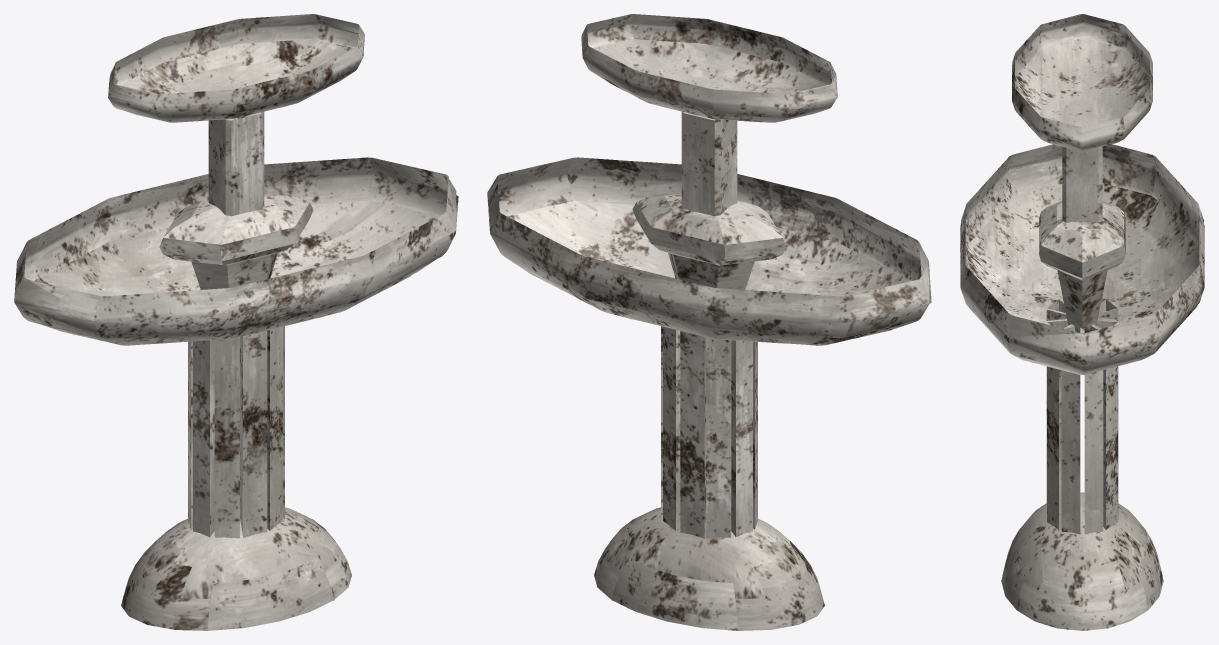
Rendered from WaterFountain.fbx.
3 renders of one model, left to right at view 1: azimuth 30°, elevation 25°; view 2: azimuth 150°, elevation 25°; view 3: azimuth 270°, elevation 25°, orthographic. The views are drawn at different scales.
Parts seen in each view (by area): view 1: Fountain; view 2: Fountain; view 3: Fountain.
Boxes of the visible parts, left/top/right/bottom form: Fountain: left=14, top=14, right=458, bottom=630; Fountain: left=487, top=14, right=931, bottom=630; Fountain: left=960, top=14, right=1204, bottom=630.
Bounding box in the file's own units: 2.3 × 2.66 × 1.15.
1 material, 1 textured.
